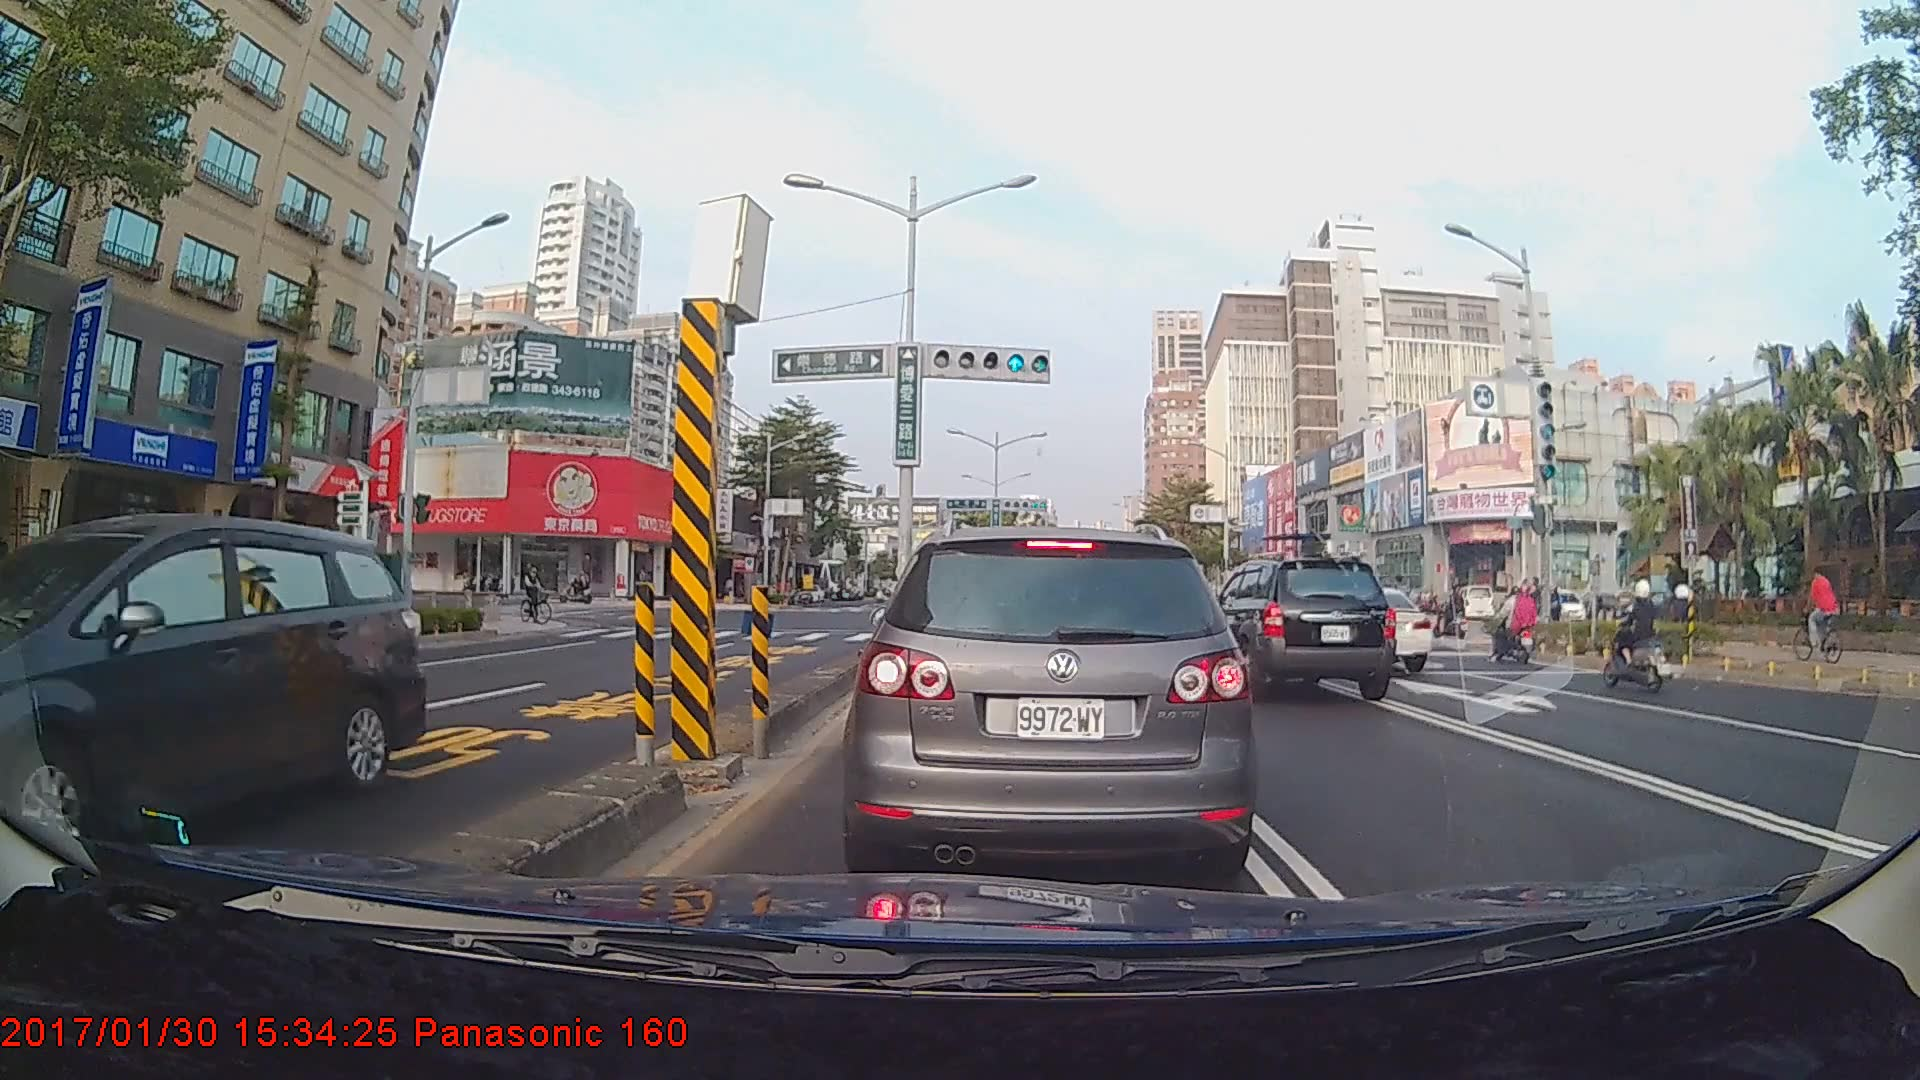pedestrian: (1584, 581, 1606, 640)
rider: (1606, 576, 1669, 702), (1485, 582, 1548, 668), (1788, 567, 1841, 661), (1651, 578, 1705, 654), (518, 559, 561, 629), (1436, 582, 1473, 646), (554, 563, 599, 611)
vehicle: (0, 509, 422, 898), (853, 521, 1245, 883), (1179, 550, 1398, 699)
